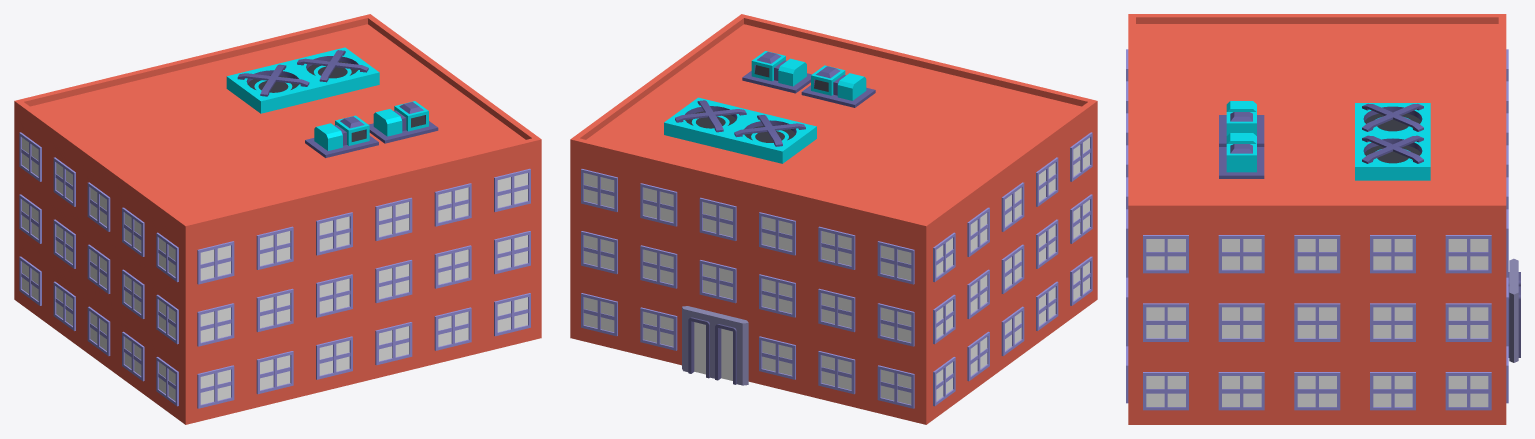
Rendered from building.glb.
3 views of the same model, side by side, from view 1: azimuth 30°, elevation 25°; view 2: azimuth 150°, elevation 25°; view 3: azimuth 270°, elevation 25° (orthographic). The views are drawn at different scales.
Parts seen in each view (by area): view 1: mergedBlocks(Clone); view 2: mergedBlocks(Clone); view 3: mergedBlocks(Clone).
Part boxes in pixels (box(x1,y1,x2,y2)): mergedBlocks(Clone): box(14, 14, 541, 424); mergedBlocks(Clone): box(570, 14, 1097, 424); mergedBlocks(Clone): box(1126, 14, 1520, 424).
Size of the model in its own units: 6.06 by 3.45 by 5.22.
